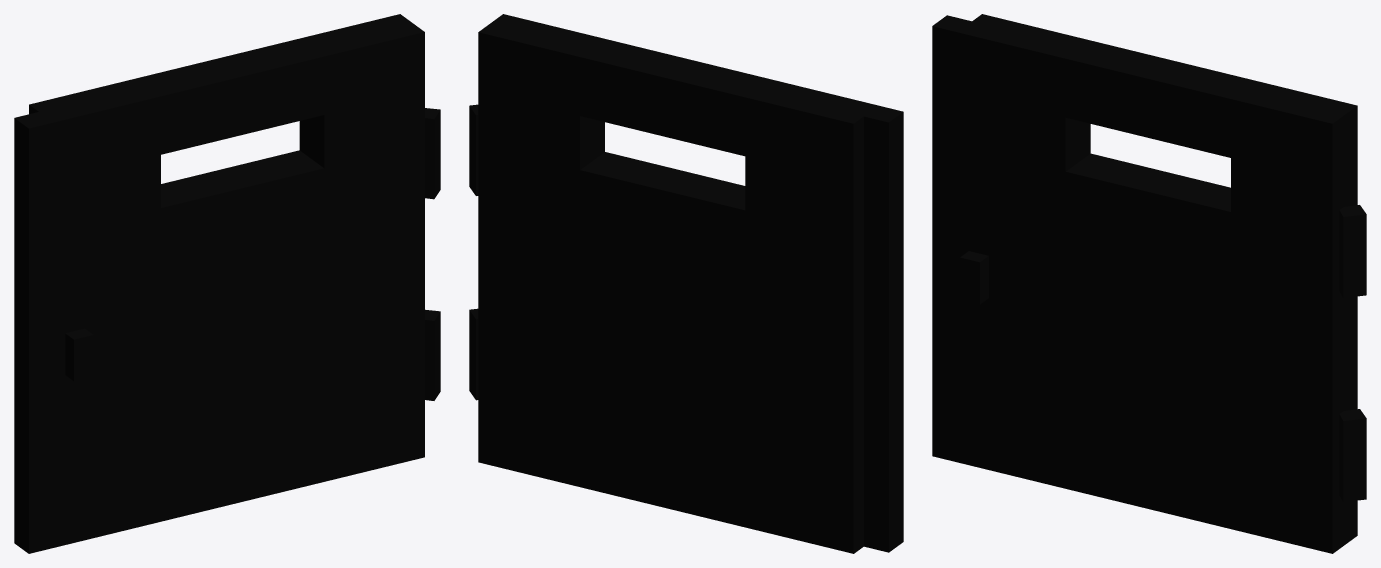
Rendered from Door2.glb.
The picture shows the model from 3 angles, left to right: view 1: azimuth 30°, elevation 25°; view 2: azimuth 150°, elevation 25°; view 3: azimuth 330°, elevation 25°; orthographic projection.
Visible parts, largest first — view 1: Door2; view 2: Door2; view 3: Door2.
Boxes of the visible parts, <box> form: Door2: <box>14,14,440,553</box>; Door2: <box>469,14,903,553</box>; Door2: <box>932,14,1366,553</box>.
Bounding box in the file's own units: 82.83 × 80 × 11.4.
1 material, 1 textured.
